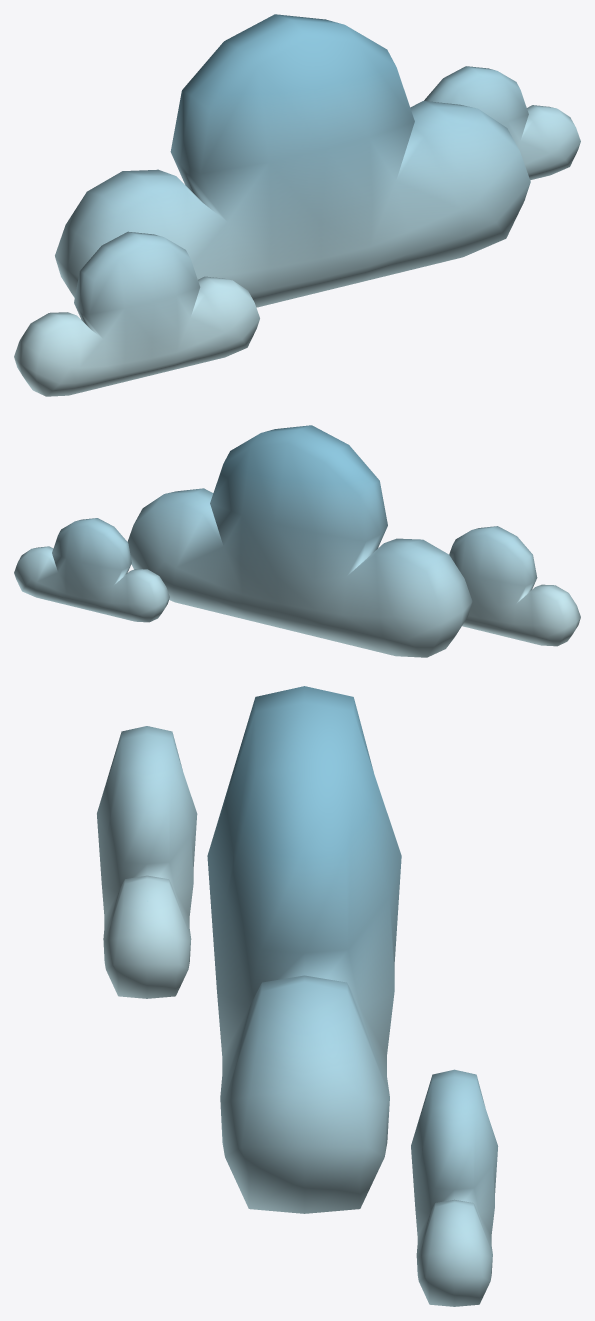
File: cloud.fbx
3 renders of one model, top to bottom at view 1: azimuth 30°, elevation 25°; view 2: azimuth 150°, elevation 25°; view 3: azimuth 270°, elevation 25°, orthographic. The views are drawn at different scales.
Parts seen in each view (by area): view 1: cloud2; view 2: cloud2; view 3: cloud2.
Part boxes in pixels (x1=…): cloud2: x1=14, y1=14, x2=580, y2=396; cloud2: x1=14, y1=425, x2=580, y2=657; cloud2: x1=97, y1=686, x2=498, y2=1306.
Bounding box in the file's own units: 8.28 × 3.12 × 3.
